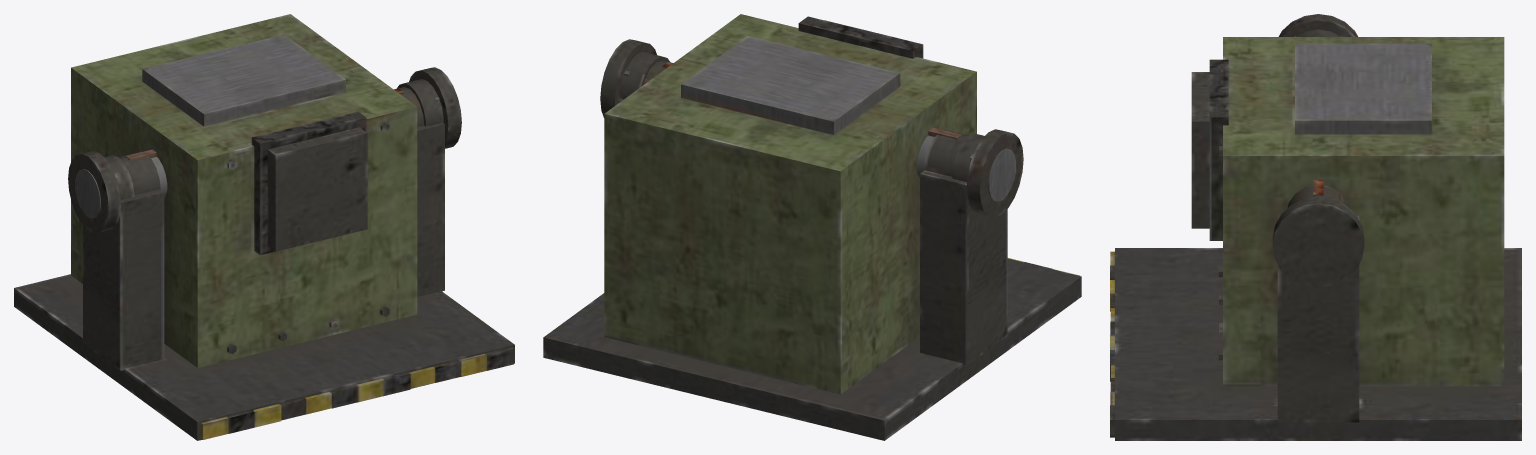
File: feDeployer.glb
3 renders of one model, left to right at view 1: azimuth 30°, elevation 25°; view 2: azimuth 150°, elevation 25°; view 3: azimuth 270°, elevation 25°, orthographic. The views are drawn at different scales.
Parts seen in each view (by area): view 1: feDeployer_Base, FeHead_Ram, FeSpin_DriveShaft; view 2: feDeployer_Base, FeSpin_DriveShaft; view 3: feDeployer_Base, FeSpin_DriveShaft, FeHead_Ram.
Part boxes in pixels (x1,y1,x2,y2): feDeployer_Base: (14, 14, 514, 440); FeHead_Ram: (267, 127, 367, 251); FeSpin_DriveShaft: (68, 67, 461, 233); feDeployer_Base: (543, 14, 1081, 440); FeSpin_DriveShaft: (600, 39, 1023, 217); feDeployer_Base: (1110, 37, 1521, 440); FeSpin_DriveShaft: (1272, 14, 1364, 287); FeHead_Ram: (1191, 72, 1209, 228).
Bounding box in the file's own units: 1 × 0.6674 × 0.9121.
1 material, 1 textured.
